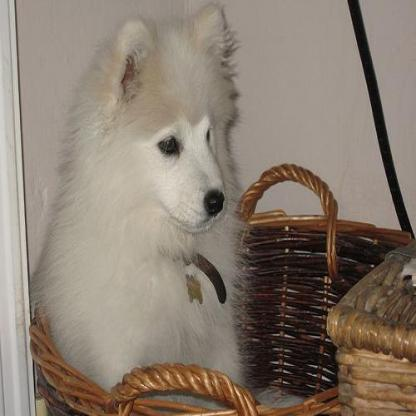Samoyed: (34, 4, 240, 410)
